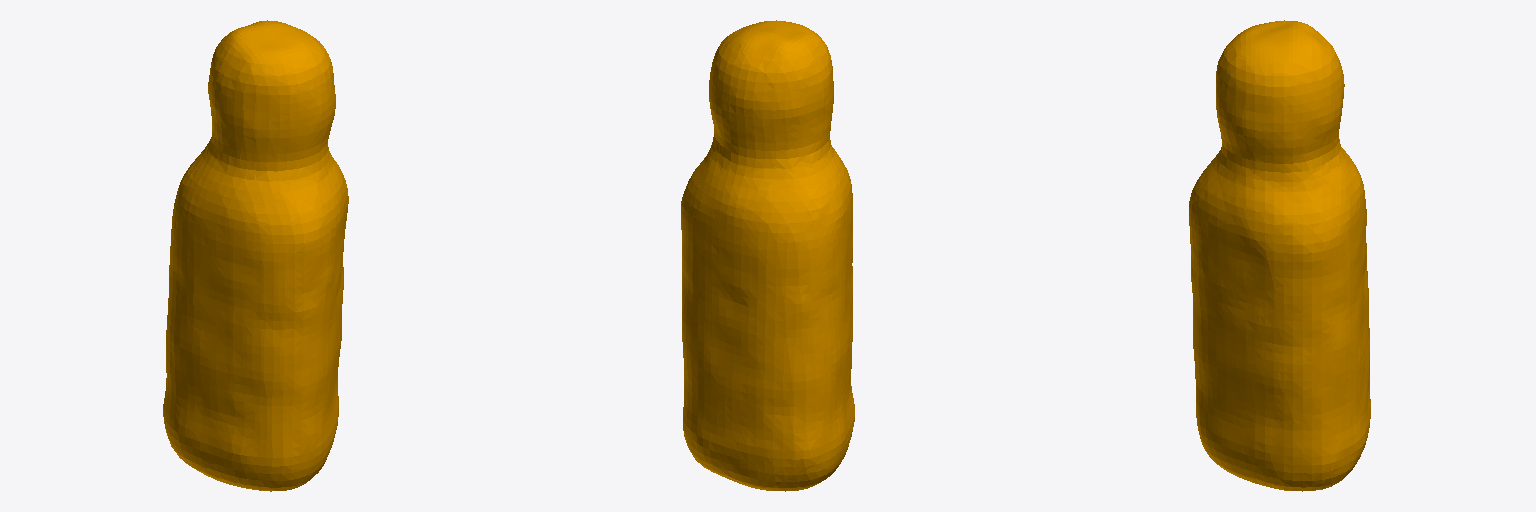
robot.urdf — palmolive_detergent:
<robot name="palmolive_detergent">
  <link name="palmolive_detergent">
    <inertial>
      <origin xyz="0.001 -0.00332 0.07" />
      <mass value="0.25" />
      <inertia  ixx="0.0006" ixy="0.0"  ixz="0.0"  iyy="0.0006"  iyz="0.0"  izz="0.0001" />
    </inertial>
    <visual>
      <origin xyz="0 0 0"/>
      <geometry>
        <mesh filename="package://ezgripper_driver/meshes/pepto_bizmo.stl" />
      </geometry>
    </visual>
    <collision>
      <origin xyz="0 0 0"/>
      <geometry>
        <mesh filename="package://ezgripper_driver/meshes/pepto_bizmo.stl" />
      </geometry>
    </collision>
  </link>
</robot>

--- Render facts (derived) ---
3 views of the same robot in one strip: view 1: azimuth 30°, elevation 25°; view 2: azimuth 150°, elevation 25°; view 3: azimuth 270°, elevation 25° (orthographic).
Model palmolive_detergent with 1 links and 0 joints (none), rooted at palmolive_detergent, posed every joint at zero.
Visible links, largest first — view 1: palmolive_detergent; view 2: palmolive_detergent; view 3: palmolive_detergent.
Link boxes in pixels (x1=…): palmolive_detergent: x1=163, y1=20, x2=348, y2=491; palmolive_detergent: x1=681, y1=20, x2=854, y2=491; palmolive_detergent: x1=1189, y1=20, x2=1370, y2=491.
Size in the robot's own frame: 0.0604 by 0.0603 by 0.1624 metres.
Meshes: 1 distinct files referenced, 1 mesh visuals loaded (1 binary STL).